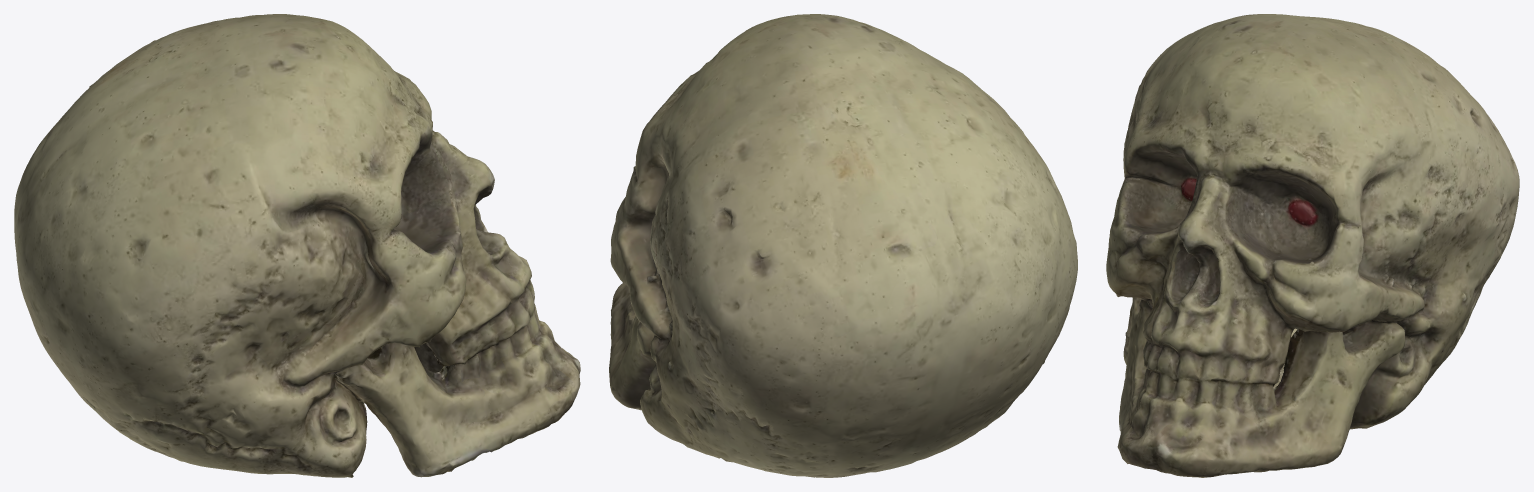
3 views of the same model, side by side, from view 1: azimuth 30°, elevation 25°; view 2: azimuth 150°, elevation 25°; view 3: azimuth 270°, elevation 25° (orthographic). The views are drawn at different scales.
Visible parts, largest first — view 1: Object_2; view 2: Object_2; view 3: Object_2.
Part boxes in pixels (left/top/right/bottom): Object_2: left=14, top=14, right=580, bottom=477; Object_2: left=609, top=14, right=1077, bottom=477; Object_2: left=1106, top=14, right=1519, bottom=477.
Bounding box in the file's own units: 3.17 × 2.6 × 2.6.
Materials: 1 (1 with a texture image).
